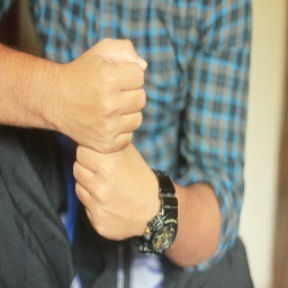G: (62, 30, 163, 245)
